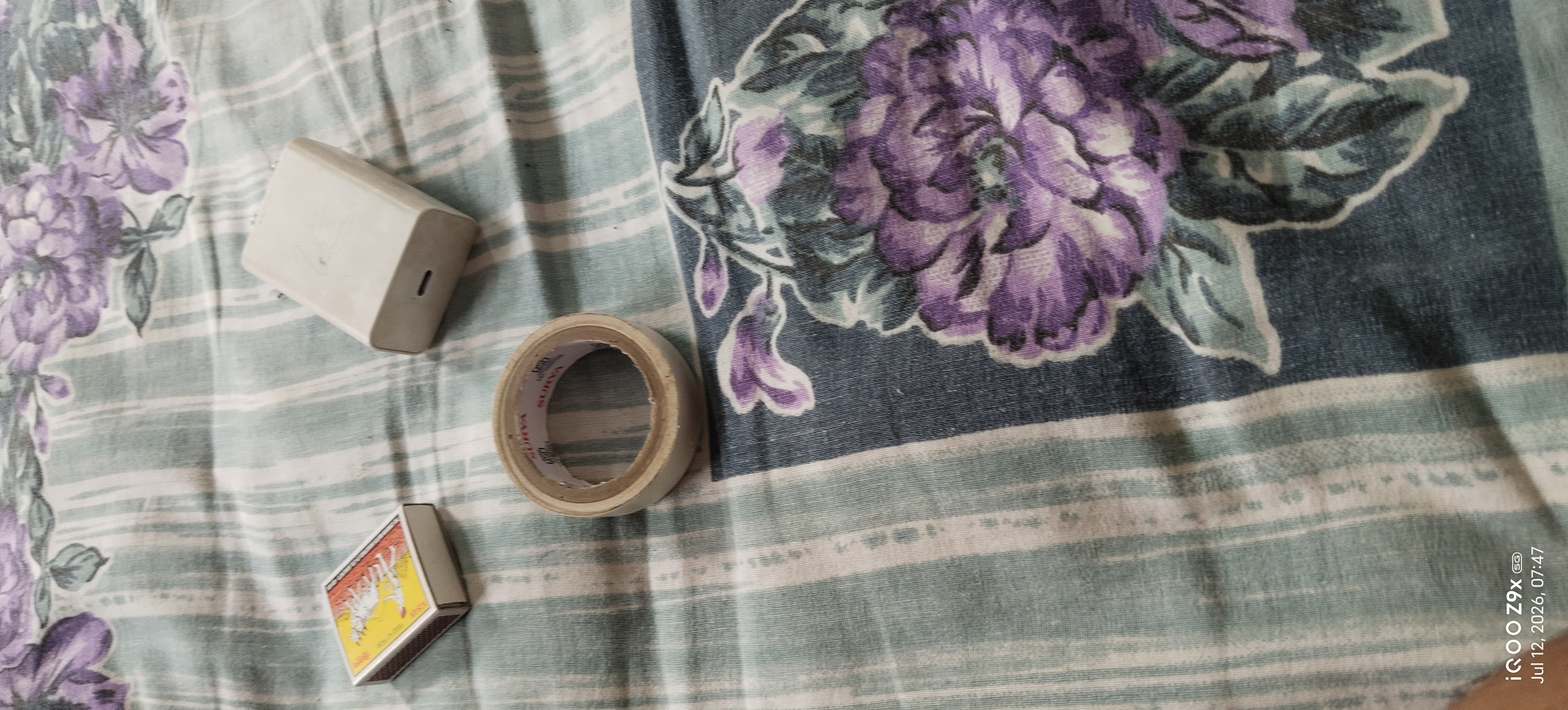charger: (200, 131, 491, 372)
matchbox: (312, 481, 477, 705)
tape_roll: (478, 285, 705, 529)
